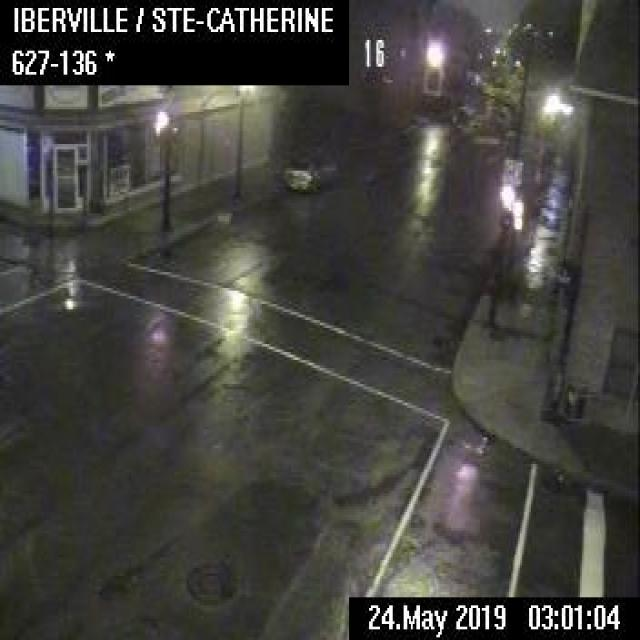vehicle: (282, 144, 340, 189)
